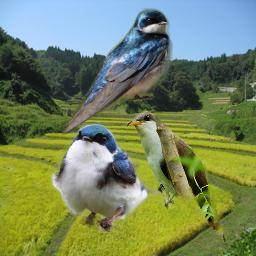Cuckoo: (123, 111, 233, 243)
Swallow: (62, 6, 173, 137), (50, 123, 175, 232)
